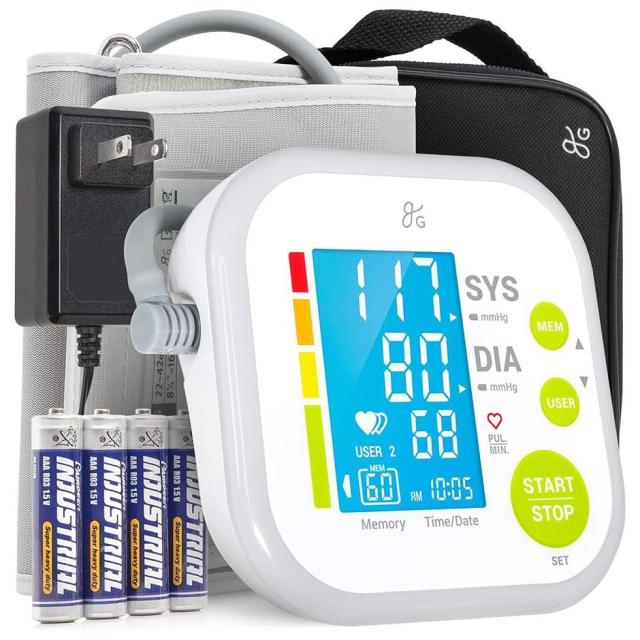dia: (370, 324, 460, 405)
pul: (404, 403, 469, 466)
ssd: (305, 230, 487, 526)
sys: (345, 252, 454, 320)
